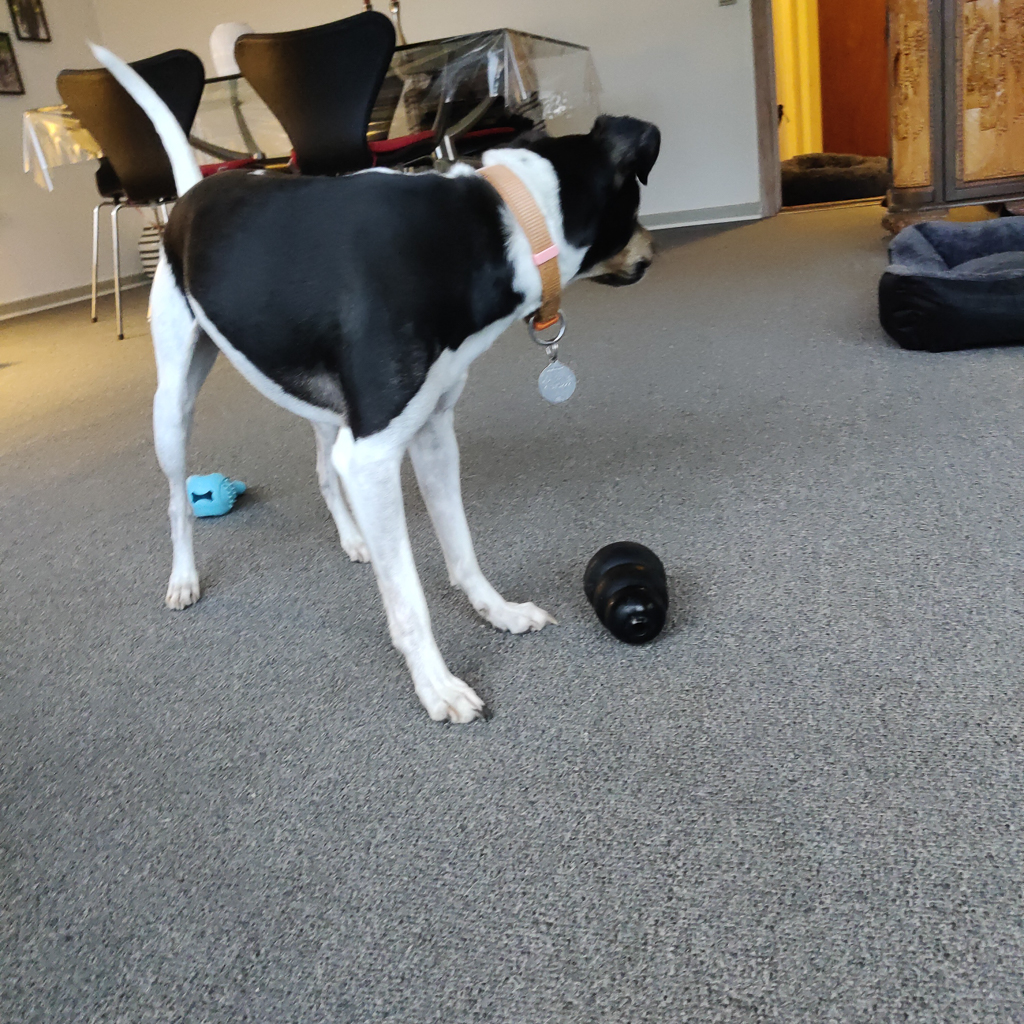Dog: (72, 19, 684, 742)
